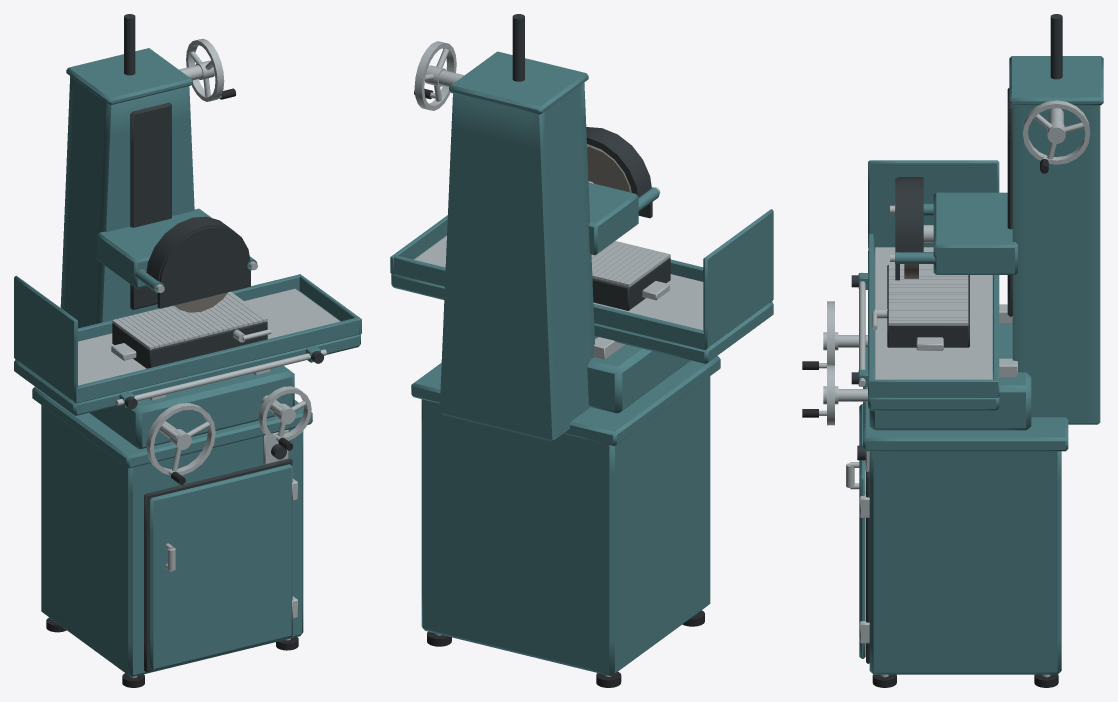
File: A-NEW-20261026-SURFACE-GRINDER-001_LOD2_R4.fbx
The picture shows the model from 3 angles, left to right: view 1: azimuth 30°, elevation 25°; view 2: azimuth 150°, elevation 25°; view 3: azimuth 270°, elevation 25°; orthographic projection. The views are drawn at different scales.
Parts seen in each view (by area): view 1: cabinet body, cabinet door, tapered vertical column, upper saddle base, round wheel guard face, column dark slide cover, left splash plate, table raised rim, long table flat bed, cabinet top cap, column top cap, long table casting (+11 smaller); view 2: cabinet body, tapered vertical column, left splash plate, cabinet top cap, column top cap, upper saddle base, long table casting, table raised rim.001, long table flat bed, grinding head mount, upper wheel guard curved rim, magnetic chuck casing (+4 smaller); view 3: cabinet body, tapered vertical column, long table flat bed, grinding head mount, left splash plate, cabinet top cap, upper saddle base, column top cap, right table end lip, long table casting, upper wheel guard curved rim, magnetic chuck casing (+12 smaller).
Boxes of the visible parts, x1,y1,x2,y2 form: cabinet body: (41,405,303,677); cabinet door: (149,464,292,670); tapered vertical column: (60,76,194,328); upper saddle base: (89,366,294,449); round wheel guard face: (157,226,250,308); column dark slide cover: (130,102,171,309); left splash plate: (14,275,77,401); table raised rim: (73,317,358,403); long table flat bed: (78,288,339,385); cabinet top cap: (32,387,312,468); column top cap: (66,48,192,105); long table casting: (14,291,360,415); cabinet body: (421,376,710,676); tapered vertical column: (439,83,594,441); left splash plate: (703,209,773,348); cabinet top cap: (411,356,720,446); column top cap: (449,51,588,114); upper saddle base: (587,337,690,413); long table casting: (391,235,773,363); table raised rim.001: (393,255,707,350); long table flat bed: (414,236,703,330); grinding head mount: (588,182,638,255); upper wheel guard curved rim: (586,127,651,197); magnetic chuck casing: (592,257,670,310); cabinet body: (869,451,1061,674); tapered vertical column: (1012,105,1100,424); long table flat bed: (874,247,992,379); grinding head mount: (933,192,1017,274); left splash plate: (868,160,999,248); cabinet top cap: (863,347,1068,451); upper saddle base: (869,323,1031,430); column top cap: (1009,56,1103,105); right table end lip: (868,379,999,397); long table casting: (868,249,999,410); upper wheel guard curved rim: (898,177,923,252); magnetic chuck casing: (887,265,969,347).
Size of the model in its own units: 105 by 205 by 89.5.
